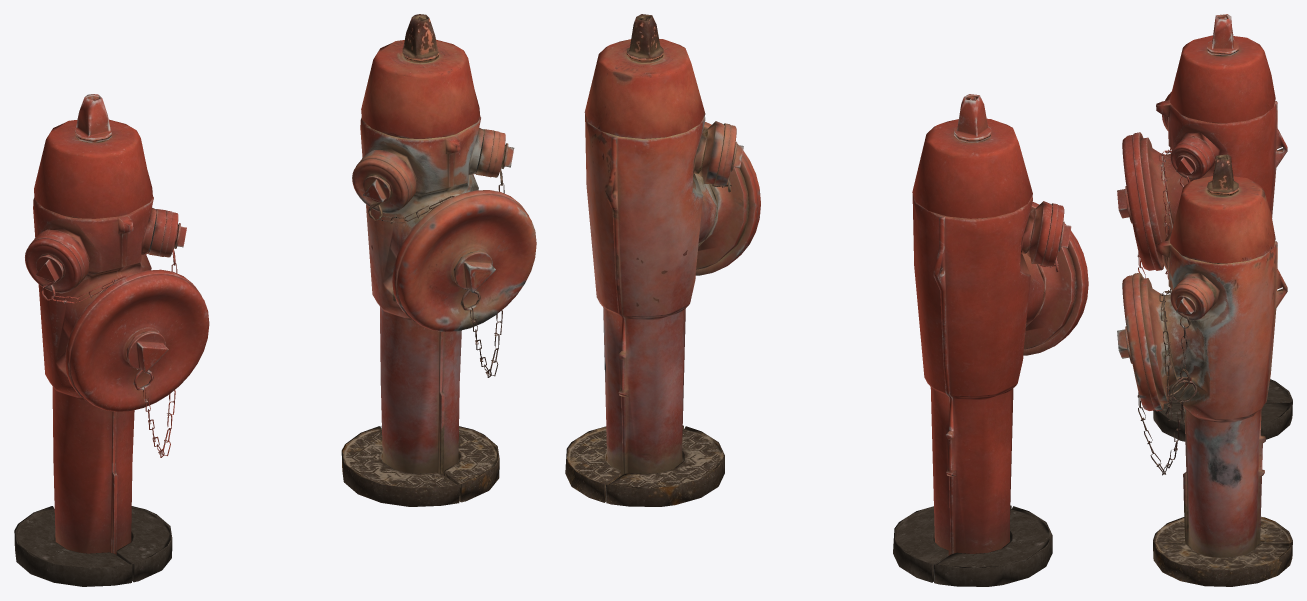
The model's file is fire_hydrant.lite.gltf.
3 renders of one model, left to right at view 1: azimuth 30°, elevation 25°; view 2: azimuth 150°, elevation 25°; view 3: azimuth 270°, elevation 25°, orthographic. The views are drawn at different scales.
Visible parts, largest first — view 1: fire_hydrant_aged, fire_hydrant, fire_hydrant_cap_01, fire_hydrant_cap_01_aged, fire_hydrant_cap_03_aged, fire_hydrant_cap_03, fire_hydrant_chain_aged, fire_hydrant_chain, fire_hydrant_cap_02, fire_hydrant_cap_02_aged; view 2: fire_hydrant, fire_hydrant_aged, fire_hydrant_cap_01, fire_hydrant_cap_01_aged, fire_hydrant_cap_03_aged, fire_hydrant_cap_03; view 3: fire_hydrant_aged, fire_hydrant, fire_hydrant_cap_01_aged, fire_hydrant_cap_01, fire_hydrant_chain_aged, fire_hydrant_cap_02_aged, fire_hydrant_cap_02, fire_hydrant_chain.
Part boxes in pixels (x1,y1,x2,y2): fire_hydrant_aged: [341, 14, 499, 506]; fire_hydrant: [14, 94, 172, 586]; fire_hydrant_cap_01: [65, 269, 209, 411]; fire_hydrant_cap_01_aged: [392, 190, 536, 331]; fire_hydrant_cap_03_aged: [352, 155, 411, 213]; fire_hydrant_cap_03: [25, 235, 84, 293]; fire_hydrant_chain_aged: [368, 145, 505, 377]; fire_hydrant_chain: [41, 225, 178, 457]; fire_hydrant_cap_02: [158, 210, 186, 257]; fire_hydrant_cap_02_aged: [486, 130, 514, 177]; fire_hydrant: [893, 94, 1076, 586]; fire_hydrant_aged: [565, 14, 748, 506]; fire_hydrant_cap_01: [1023, 202, 1088, 355]; fire_hydrant_cap_01_aged: [695, 122, 760, 275]; fire_hydrant_cap_03_aged: [713, 123, 743, 186]; fire_hydrant_cap_03: [1040, 203, 1071, 266]; fire_hydrant_aged: [1140, 154, 1292, 586]; fire_hydrant: [1140, 14, 1292, 441]; fire_hydrant_cap_01_aged: [1117, 272, 1163, 411]; fire_hydrant_cap_01: [1117, 132, 1163, 270]; fire_hydrant_chain_aged: [1137, 288, 1197, 475]; fire_hydrant_cap_02_aged: [1170, 281, 1210, 320]; fire_hydrant_cap_02: [1170, 141, 1210, 179]; fire_hydrant_chain: [1137, 148, 1190, 279].
Bounding box in the file's own units: 0.8746 × 0.7992 × 0.3177.
Materials: 2 (2 with a texture image).
